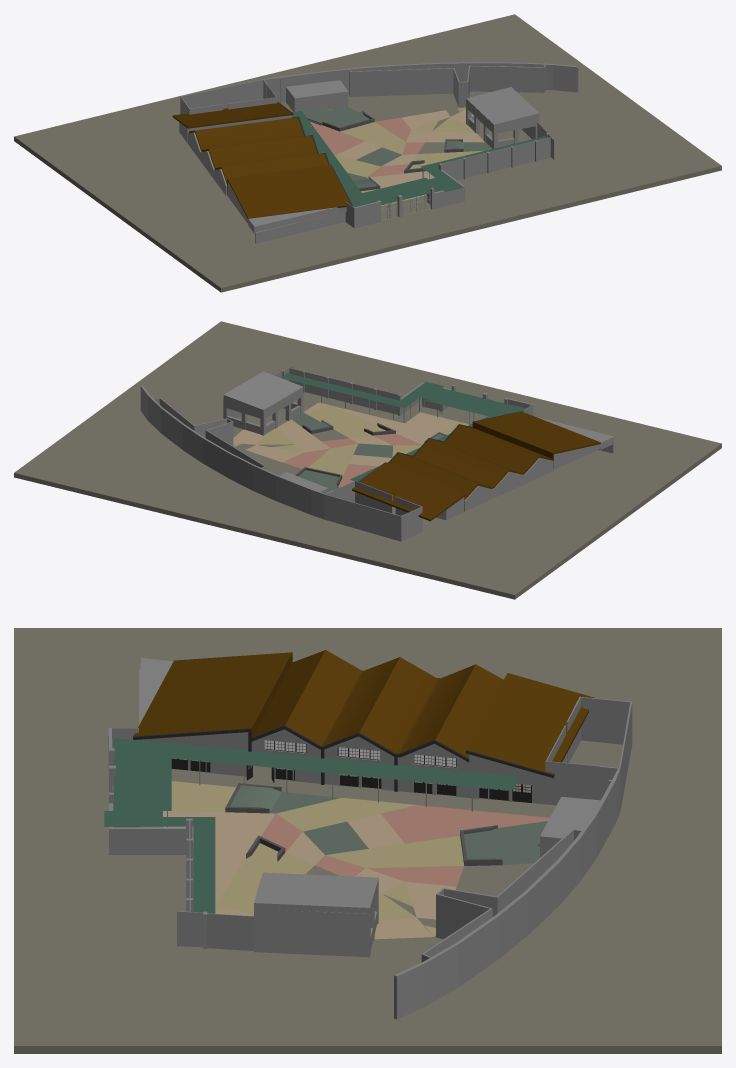
File: FBX_RUFA.fbx
The picture shows the model from 3 angles, top to bottom: view 1: azimuth 30°, elevation 25°; view 2: azimuth 150°, elevation 25°; view 3: azimuth 270°, elevation 25°; orthographic projection. The views are drawn at different scales.
Parts seen in each view (by area): view 1: MSH_Floor, polySurface15, MSH_Pavimento1, MSH_Tettoia, GRP_Grass_MSH_Grass, Oggetto_56.003; view 2: MSH_Floor, polySurface15, MSH_Pavimento1, MSH_Tettoia, GRP_Grass_MSH_Grass, Oggetto_56.003; view 3: MSH_Floor, polySurface15, MSH_Pavimento1, MSH_Tettoia, GRP_Grass_MSH_Grass, GRP_Doorsclosed1, Oggetto_56.003.
Boxes of the visible parts, box(x1,y1,x2,y2) form: MSH_Floor: box(14, 14, 721, 292); polySurface15: box(172, 62, 578, 243); MSH_Pavimento1: box(309, 107, 484, 206); MSH_Tettoia: box(291, 111, 545, 207); GRP_Grass_MSH_Grass: box(302, 107, 492, 187); Oggetto_56.003: box(308, 111, 463, 191); MSH_Floor: box(14, 321, 721, 599); polySurface15: box(140, 365, 614, 541); MSH_Pavimento1: box(233, 402, 468, 487); MSH_Tettoia: box(280, 373, 526, 481); GRP_Grass_MSH_Grass: box(291, 412, 444, 492); Oggetto_56.003: box(295, 420, 446, 488); MSH_Floor: box(14, 628, 721, 1053); polySurface15: box(108, 650, 632, 1019); MSH_Pavimento1: box(163, 781, 549, 939); MSH_Tettoia: box(104, 738, 518, 921); GRP_Grass_MSH_Grass: box(230, 785, 547, 864); GRP_Doorsclosed1: box(171, 758, 531, 802); Oggetto_56.003: box(225, 783, 502, 865).
Bounding box in the file's own units: 10389 × 734 × 7438.
